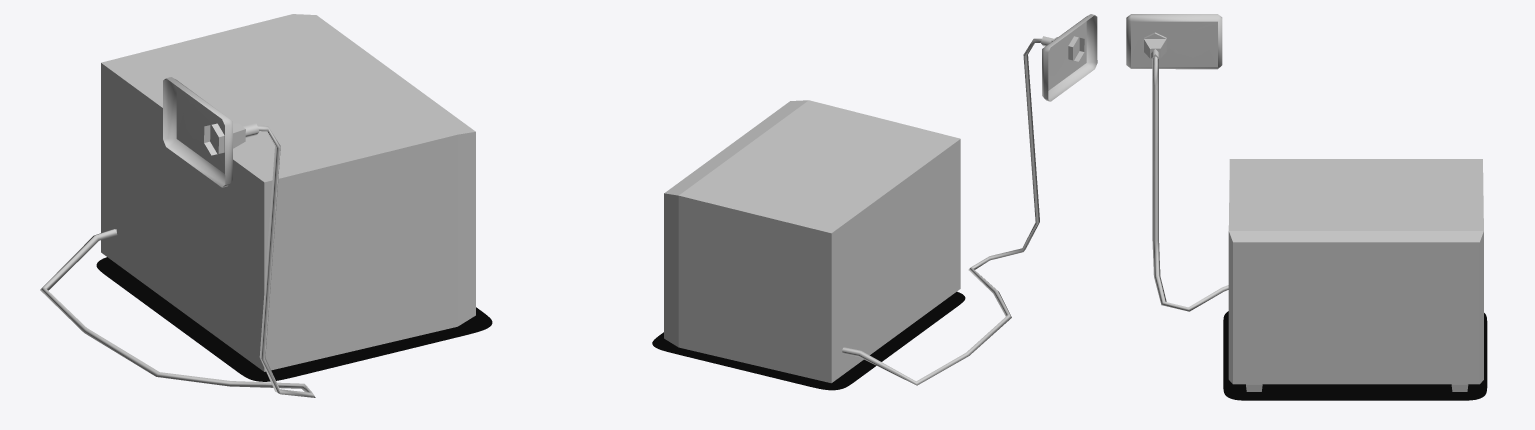
File: antenna_controller_LOD.fbx
3 views of the same model, side by side, from view 1: azimuth 30°, elevation 25°; view 2: azimuth 150°, elevation 25°; view 3: azimuth 270°, elevation 25° (orthographic). The views are drawn at different scales.
Parts seen in each view (by area): view 1: controller_LOD, net_cable, controller_shadow; view 2: controller_LOD, net_cable, controller_shadow; view 3: controller_LOD, net_cable, controller_shadow.
Boxes of the visible parts, x1,y1,x2,y2 form: controller_LOD: (101,14,475,371); net_cable: (40,77,315,397); controller_shadow: (96,257,492,381); controller_LOD: (664,100,960,383); net_cable: (842,14,1097,385); controller_shadow: (652,291,965,390); controller_LOD: (1228,159,1483,391); net_cable: (1126,14,1228,311); controller_shadow: (1223,311,1487,400).
Bounding box in the file's own units: 46.11 × 38.81 × 53.49.
